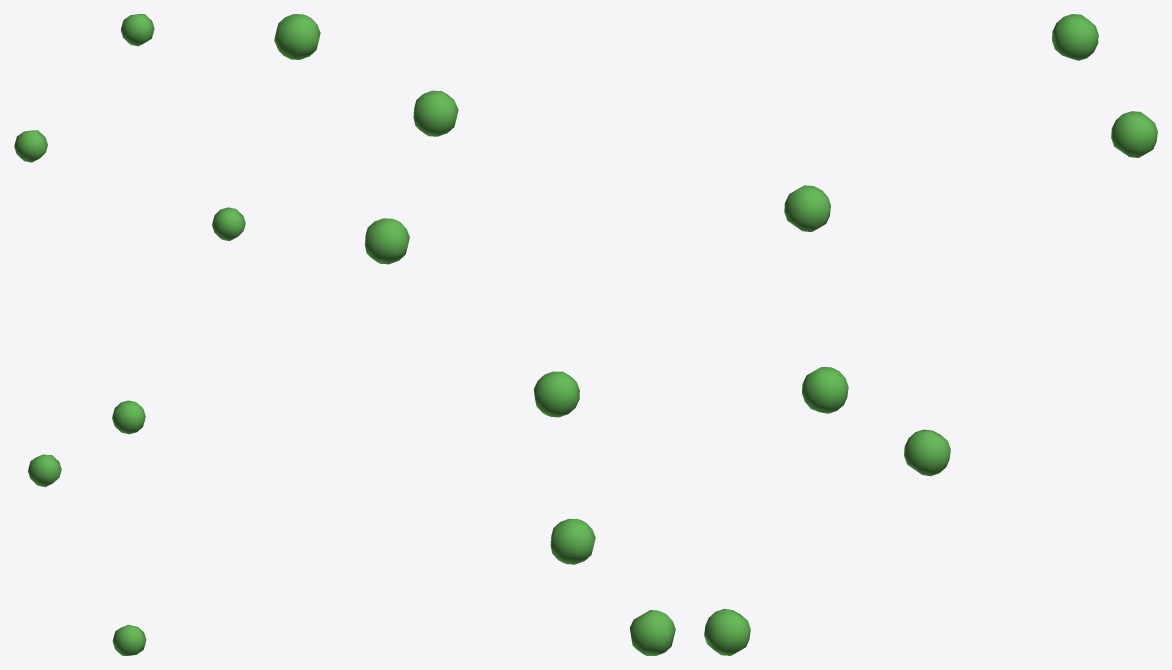
File: linfatico-anterior-axillary-nodes-r.glb
3 renders of one model, left to right at view 1: azimuth 30°, elevation 25°; view 2: azimuth 150°, elevation 25°; view 3: azimuth 270°, elevation 25°, orthographic. The views are drawn at different scales.
Parts seen in each view (by area): view 1: Anterior axillary nodes.r; view 2: Anterior axillary nodes.r; view 3: Anterior axillary nodes.r.
Boxes of the visible parts, box(x1,y1,x2,y2) form: Anterior axillary nodes.r: box(14, 14, 245, 655); Anterior axillary nodes.r: box(274, 14, 675, 655); Anterior axillary nodes.r: box(704, 14, 1157, 655).
Bounding box in the file's own units: 0.0155 × 0.0437 × 0.0248.
